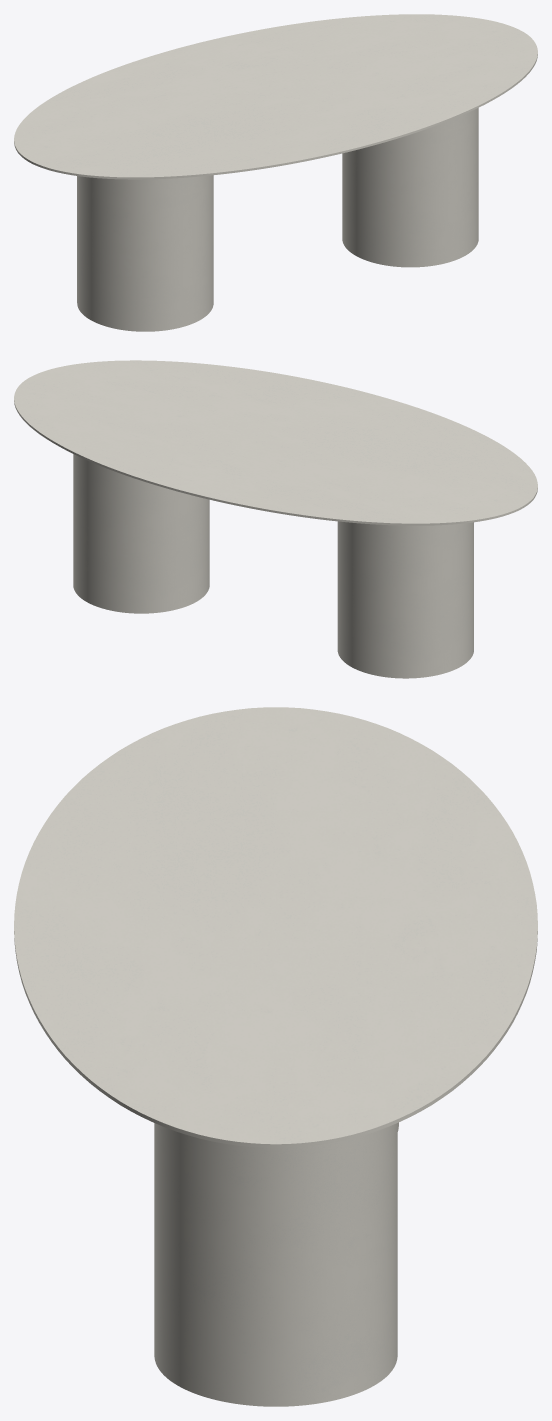
Rendered from pale_ellips_facet_stream.glb.
3 views of the same model, one above another, from view 1: azimuth 30°, elevation 25°; view 2: azimuth 150°, elevation 25°; view 3: azimuth 270°, elevation 25° (orthographic). The views are drawn at different scales.
Visible parts, largest first — view 1: facet_ellips, stream; view 2: facet_ellips, stream; view 3: facet_ellips, stream.
Boxes of the visible parts, left/top/right/bottom form: facet_ellips: left=14, top=14, right=537, bottom=179; stream: left=77, top=108, right=478, bottom=331; facet_ellips: left=14, top=360, right=537, bottom=525; stream: left=73, top=454, right=473, bottom=678; facet_ellips: left=14, top=707, right=537, bottom=1147; stream: left=154, top=1122, right=398, bottom=1406.
Size of the model in its own units: 7.5 by 2.5 by 3.8.
1 material, 1 textured.
